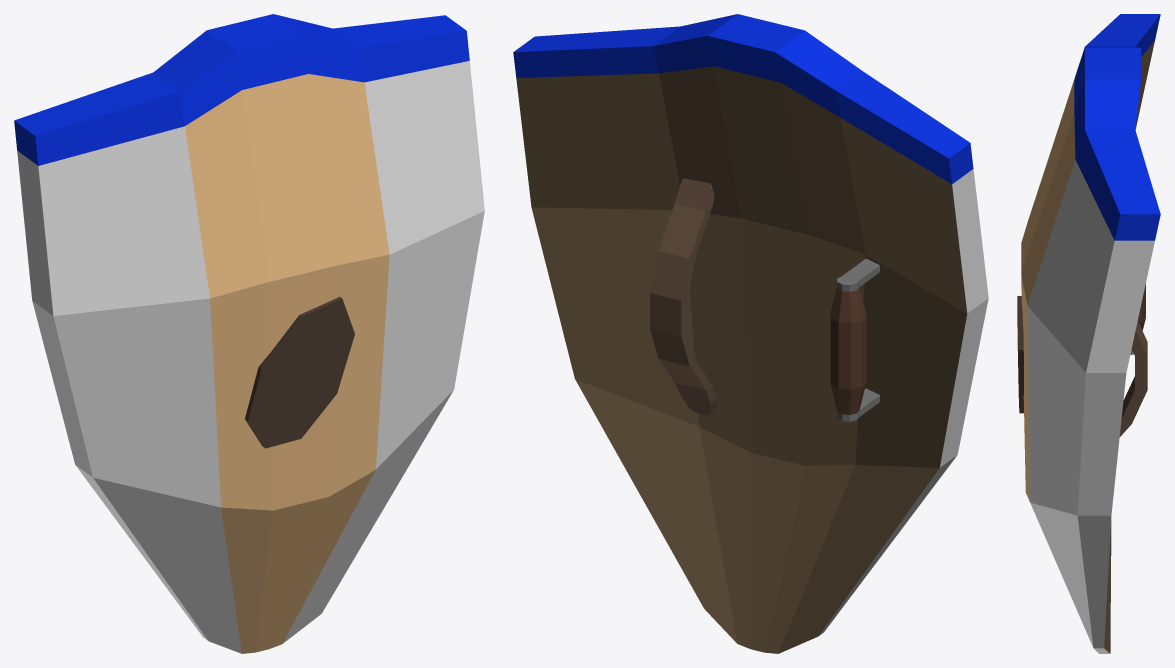
Rendered from Potato_shield.fbx.
3 renders of one model, left to right at view 1: azimuth 30°, elevation 25°; view 2: azimuth 150°, elevation 25°; view 3: azimuth 270°, elevation 25°, orthographic. The views are drawn at different scales.
Parts seen in each view (by area): view 1: Cube.006, Circle; view 2: Cube.006, Plane, Cylinder.012; view 3: Cube.006, Plane, Circle.
Boxes of the visible parts, <box> form: Cube.006: <box>14,14,484,653</box>; Circle: <box>245,296,354,448</box>; Cube.006: <box>513,14,988,653</box>; Plane: <box>650,178,717,415</box>; Cylinder.012: <box>830,258,879,421</box>; Cube.006: <box>1021,14,1160,653</box>; Plane: <box>1119,321,1147,436</box>; Circle: <box>1017,296,1023,413</box>.
Bounding box in the file's own units: 71.65 × 97.22 × 21.7.
